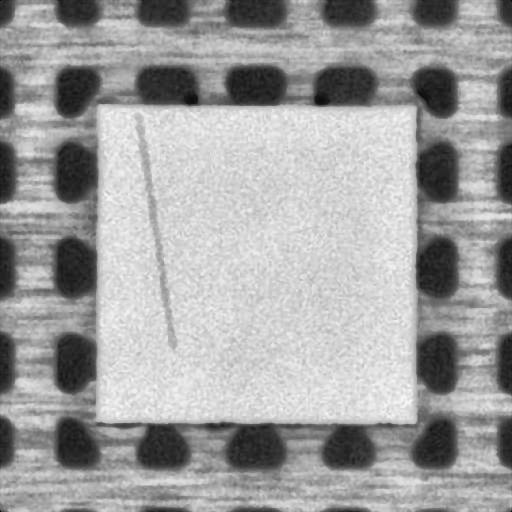DIE_CRACK: (136, 112, 172, 347)
